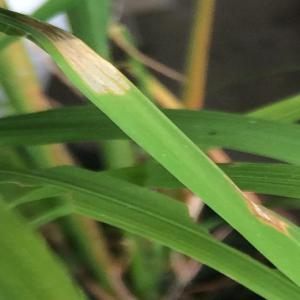Rice_Blast: (240, 188, 286, 243)
